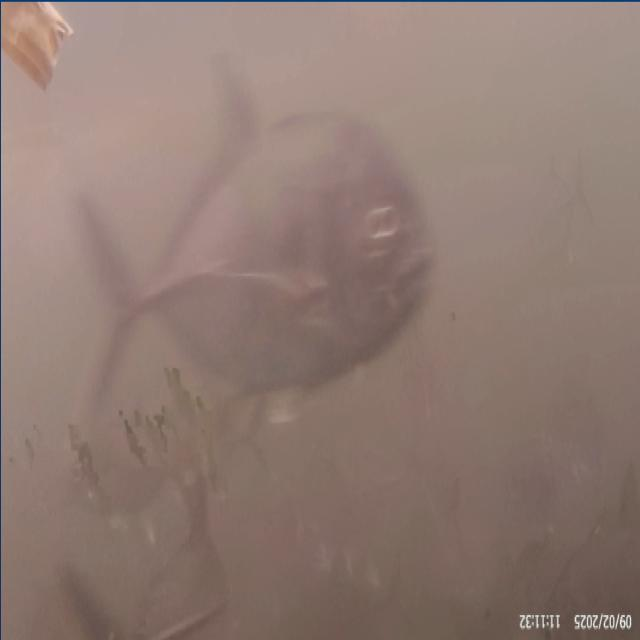ikan: (71, 72, 474, 444)
